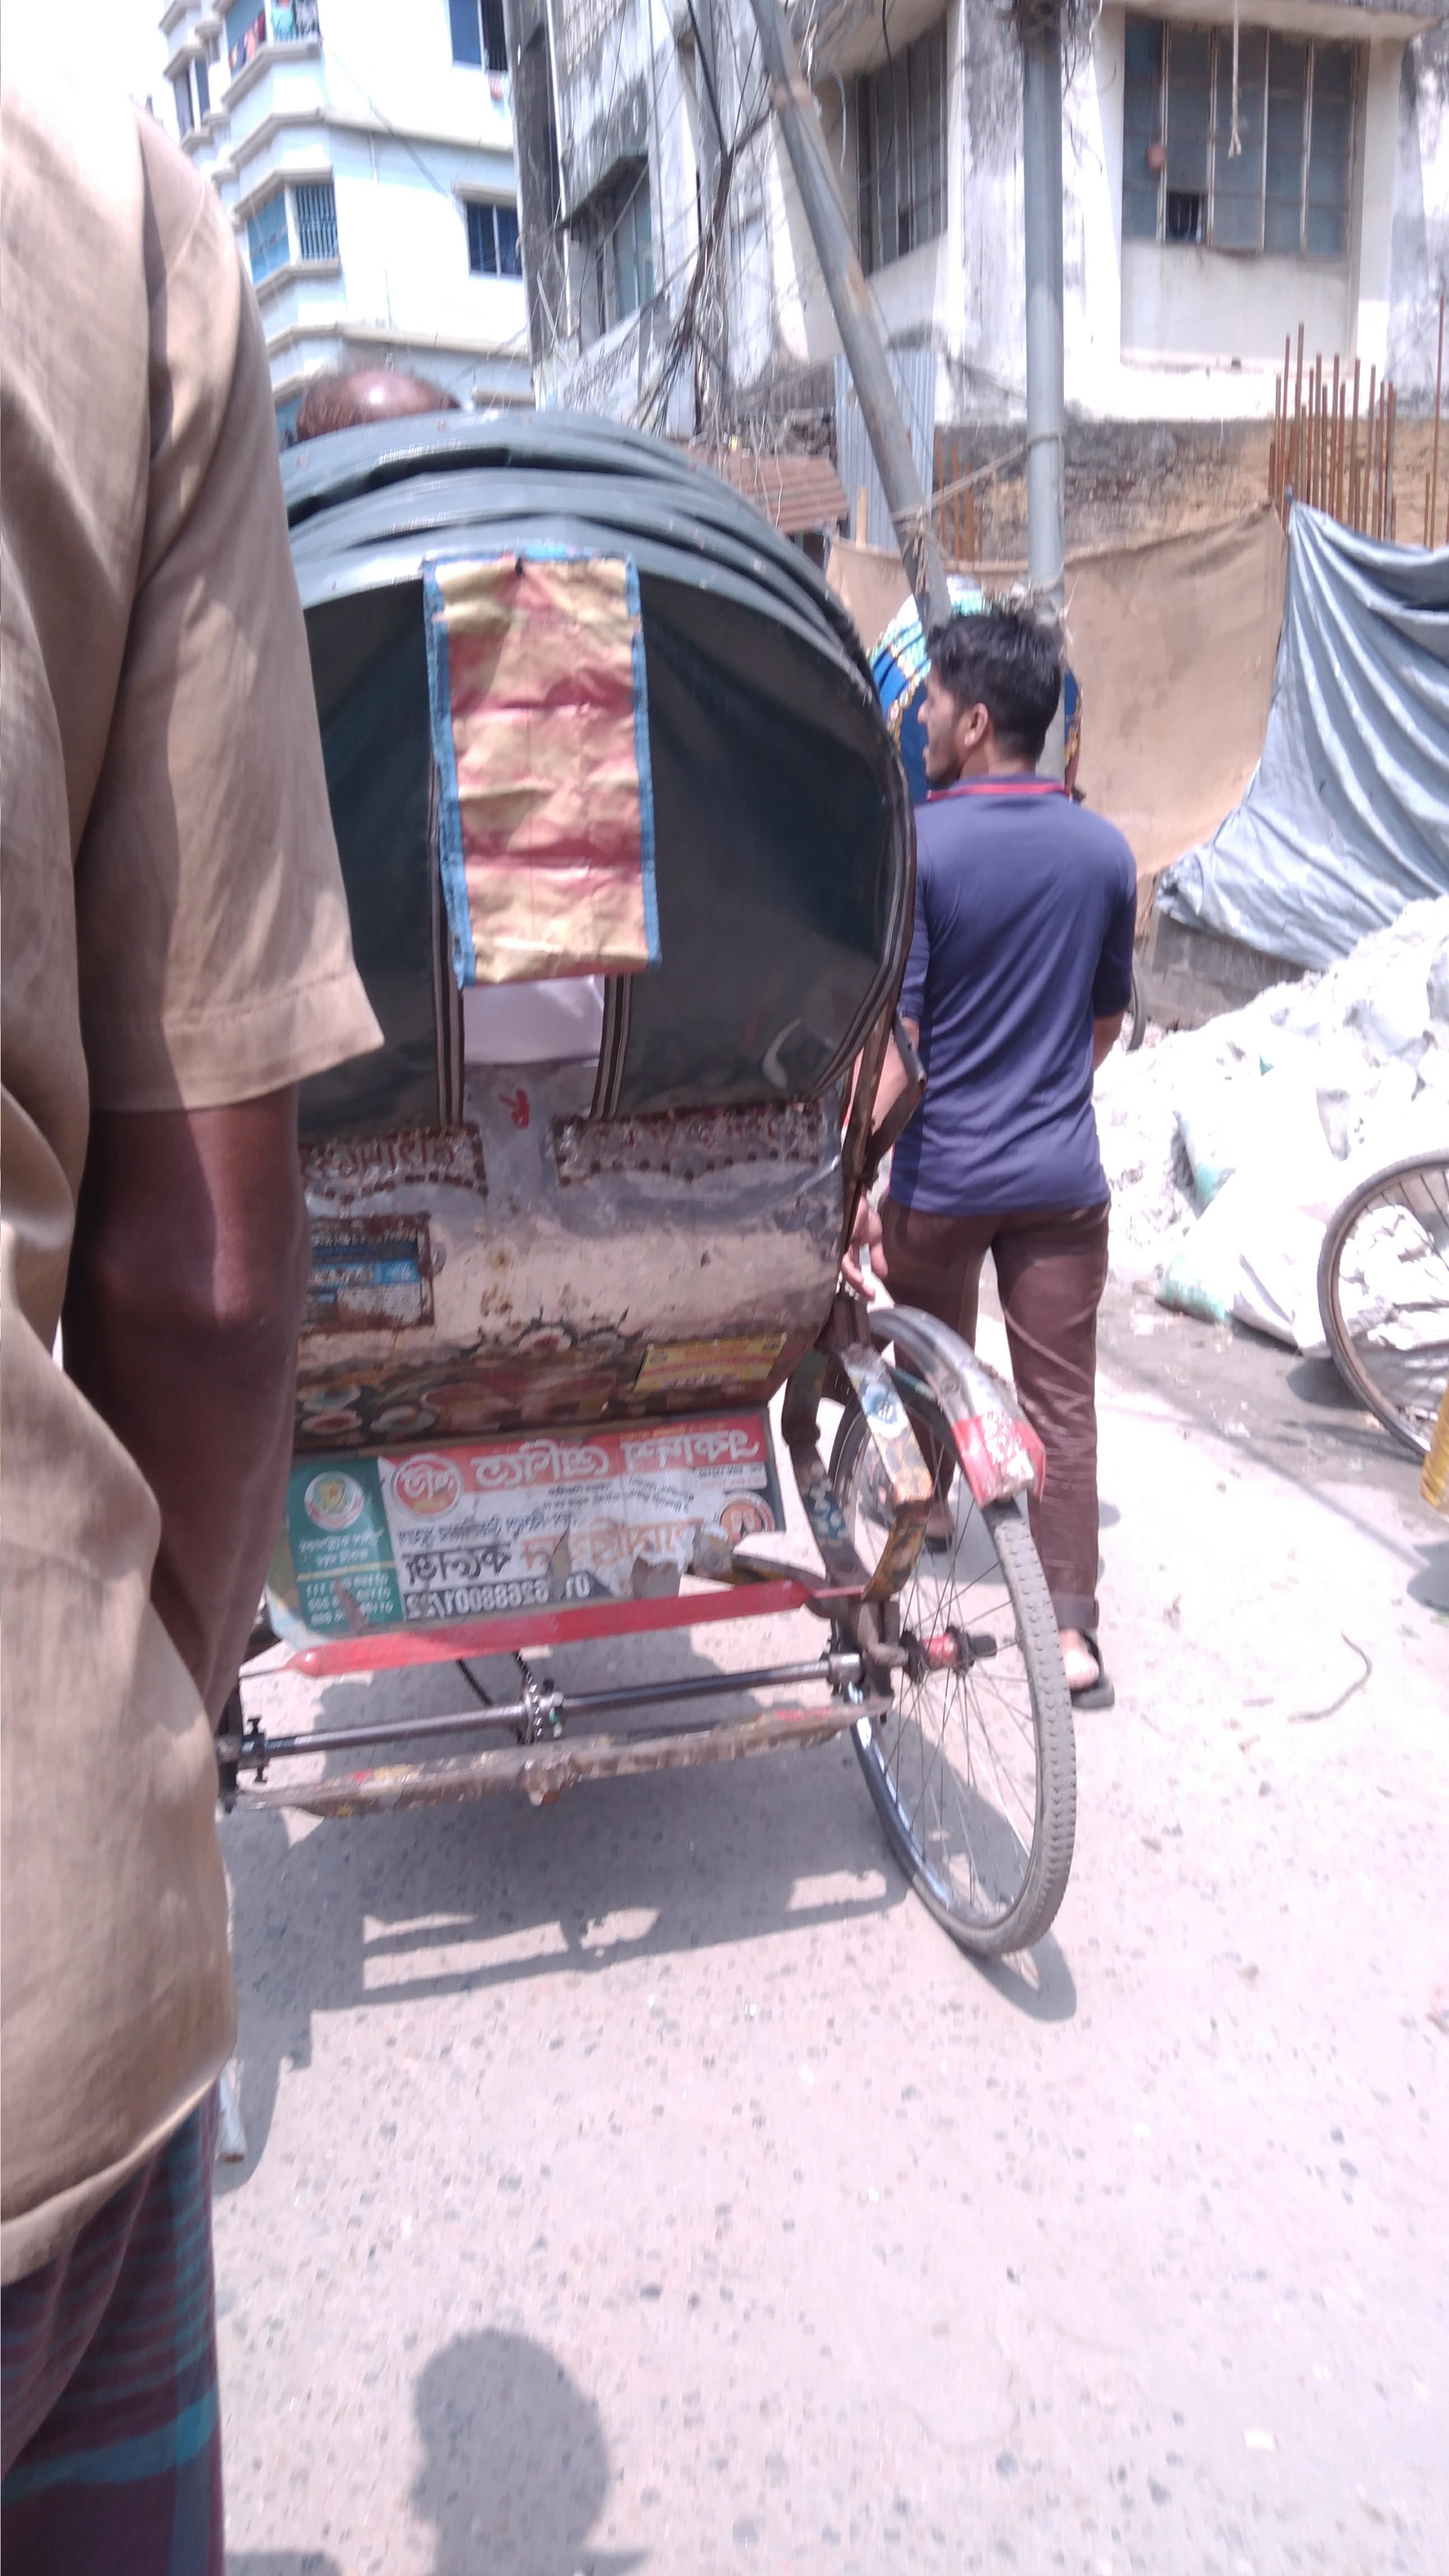Rickshaw: (175, 349, 1184, 2033)
